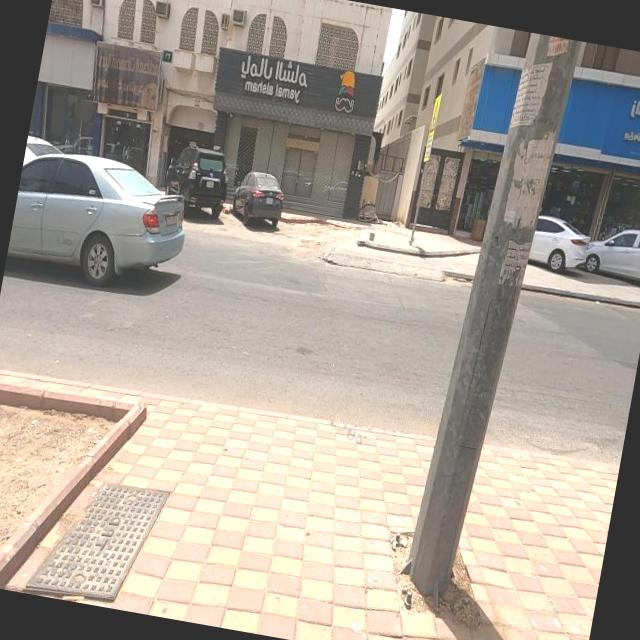debris: (35, 0, 212, 174)
